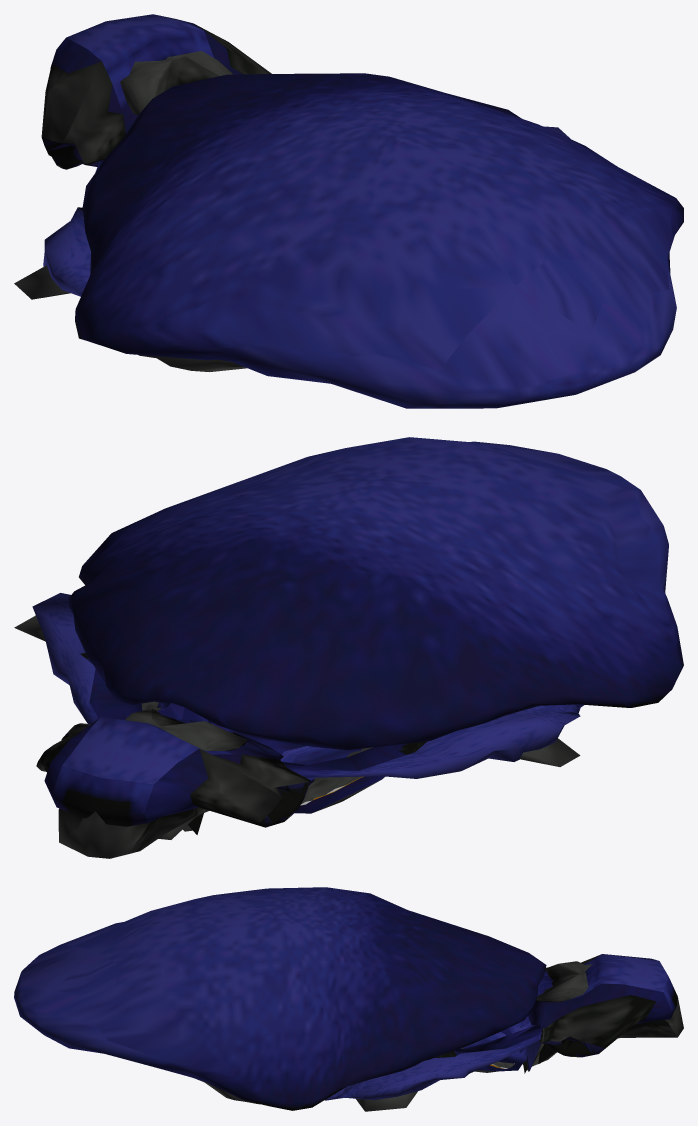
The model's file is npc_hopper_die_000235.obj.
The picture shows the model from 3 angles, top to bottom: view 1: azimuth 30°, elevation 25°; view 2: azimuth 150°, elevation 25°; view 3: azimuth 270°, elevation 25°; orthographic projection. The views are drawn at different scales.
Visible parts, largest first — view 1: npc_hopper_npc_hopper_mesh; view 2: npc_hopper_npc_hopper_mesh; view 3: npc_hopper_npc_hopper_mesh.
Part boxes in pixels (x1,y1,x2,y2): npc_hopper_npc_hopper_mesh: [14, 14, 683, 408]; npc_hopper_npc_hopper_mesh: [14, 437, 683, 858]; npc_hopper_npc_hopper_mesh: [14, 887, 683, 1111].
Size of the model in its own units: 1.75 by 0.6232 by 2.49.
